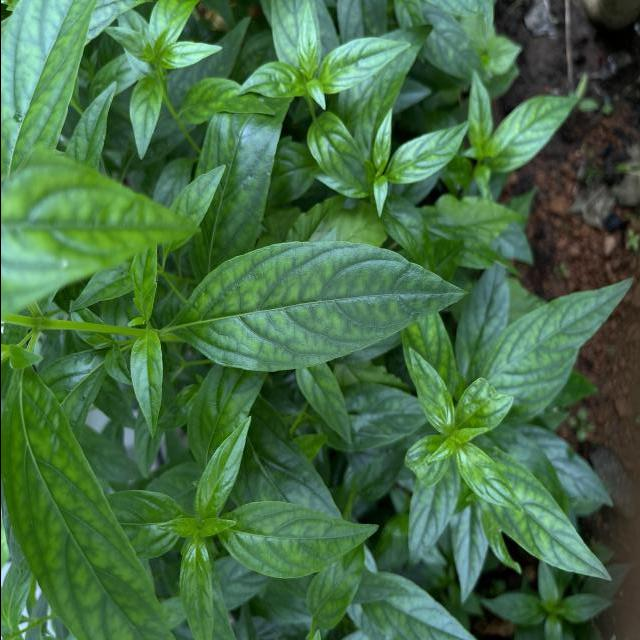Andrographis paniculata: (168, 238, 468, 374), (472, 442, 612, 582), (488, 276, 636, 400), (217, 498, 380, 580), (488, 94, 578, 174), (192, 412, 255, 522), (404, 456, 461, 571), (386, 116, 471, 185), (318, 34, 412, 92), (305, 109, 369, 192), (292, 364, 352, 446), (406, 346, 456, 434), (128, 328, 164, 440), (229, 56, 309, 102), (128, 74, 164, 161)
